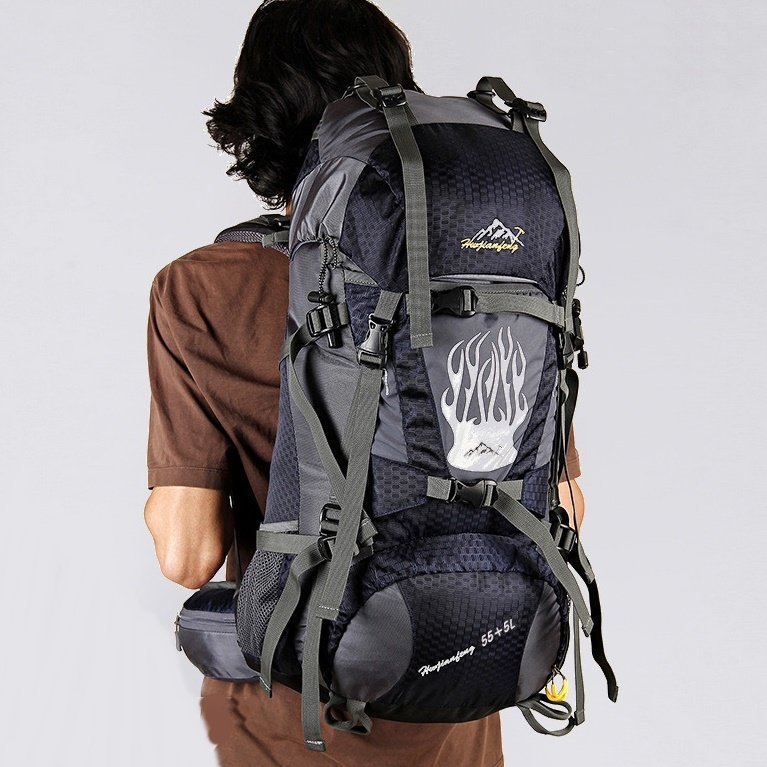backpack: (233, 74, 616, 740)
